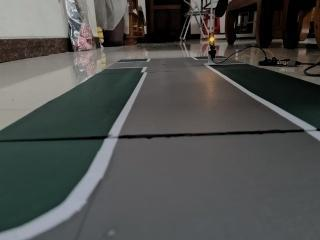yellow: (206, 24, 220, 51)
